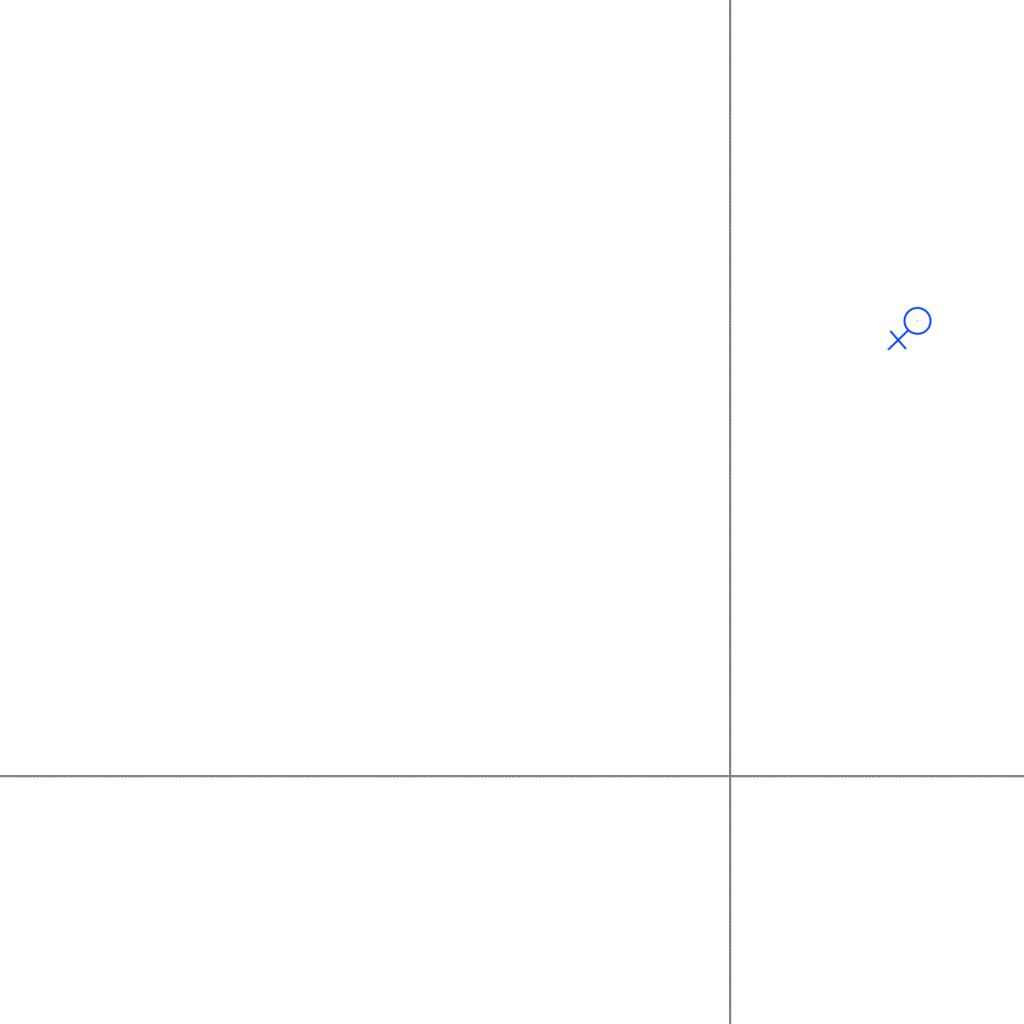Elektroanschluss_allgemein_230V_Geraeteanschlussdose_230V: (887, 306, 936, 353)
